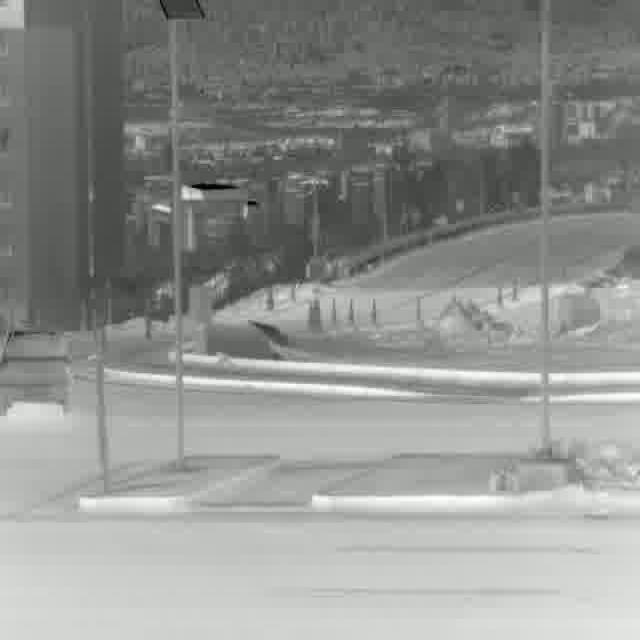Car: (0, 323, 72, 425)
